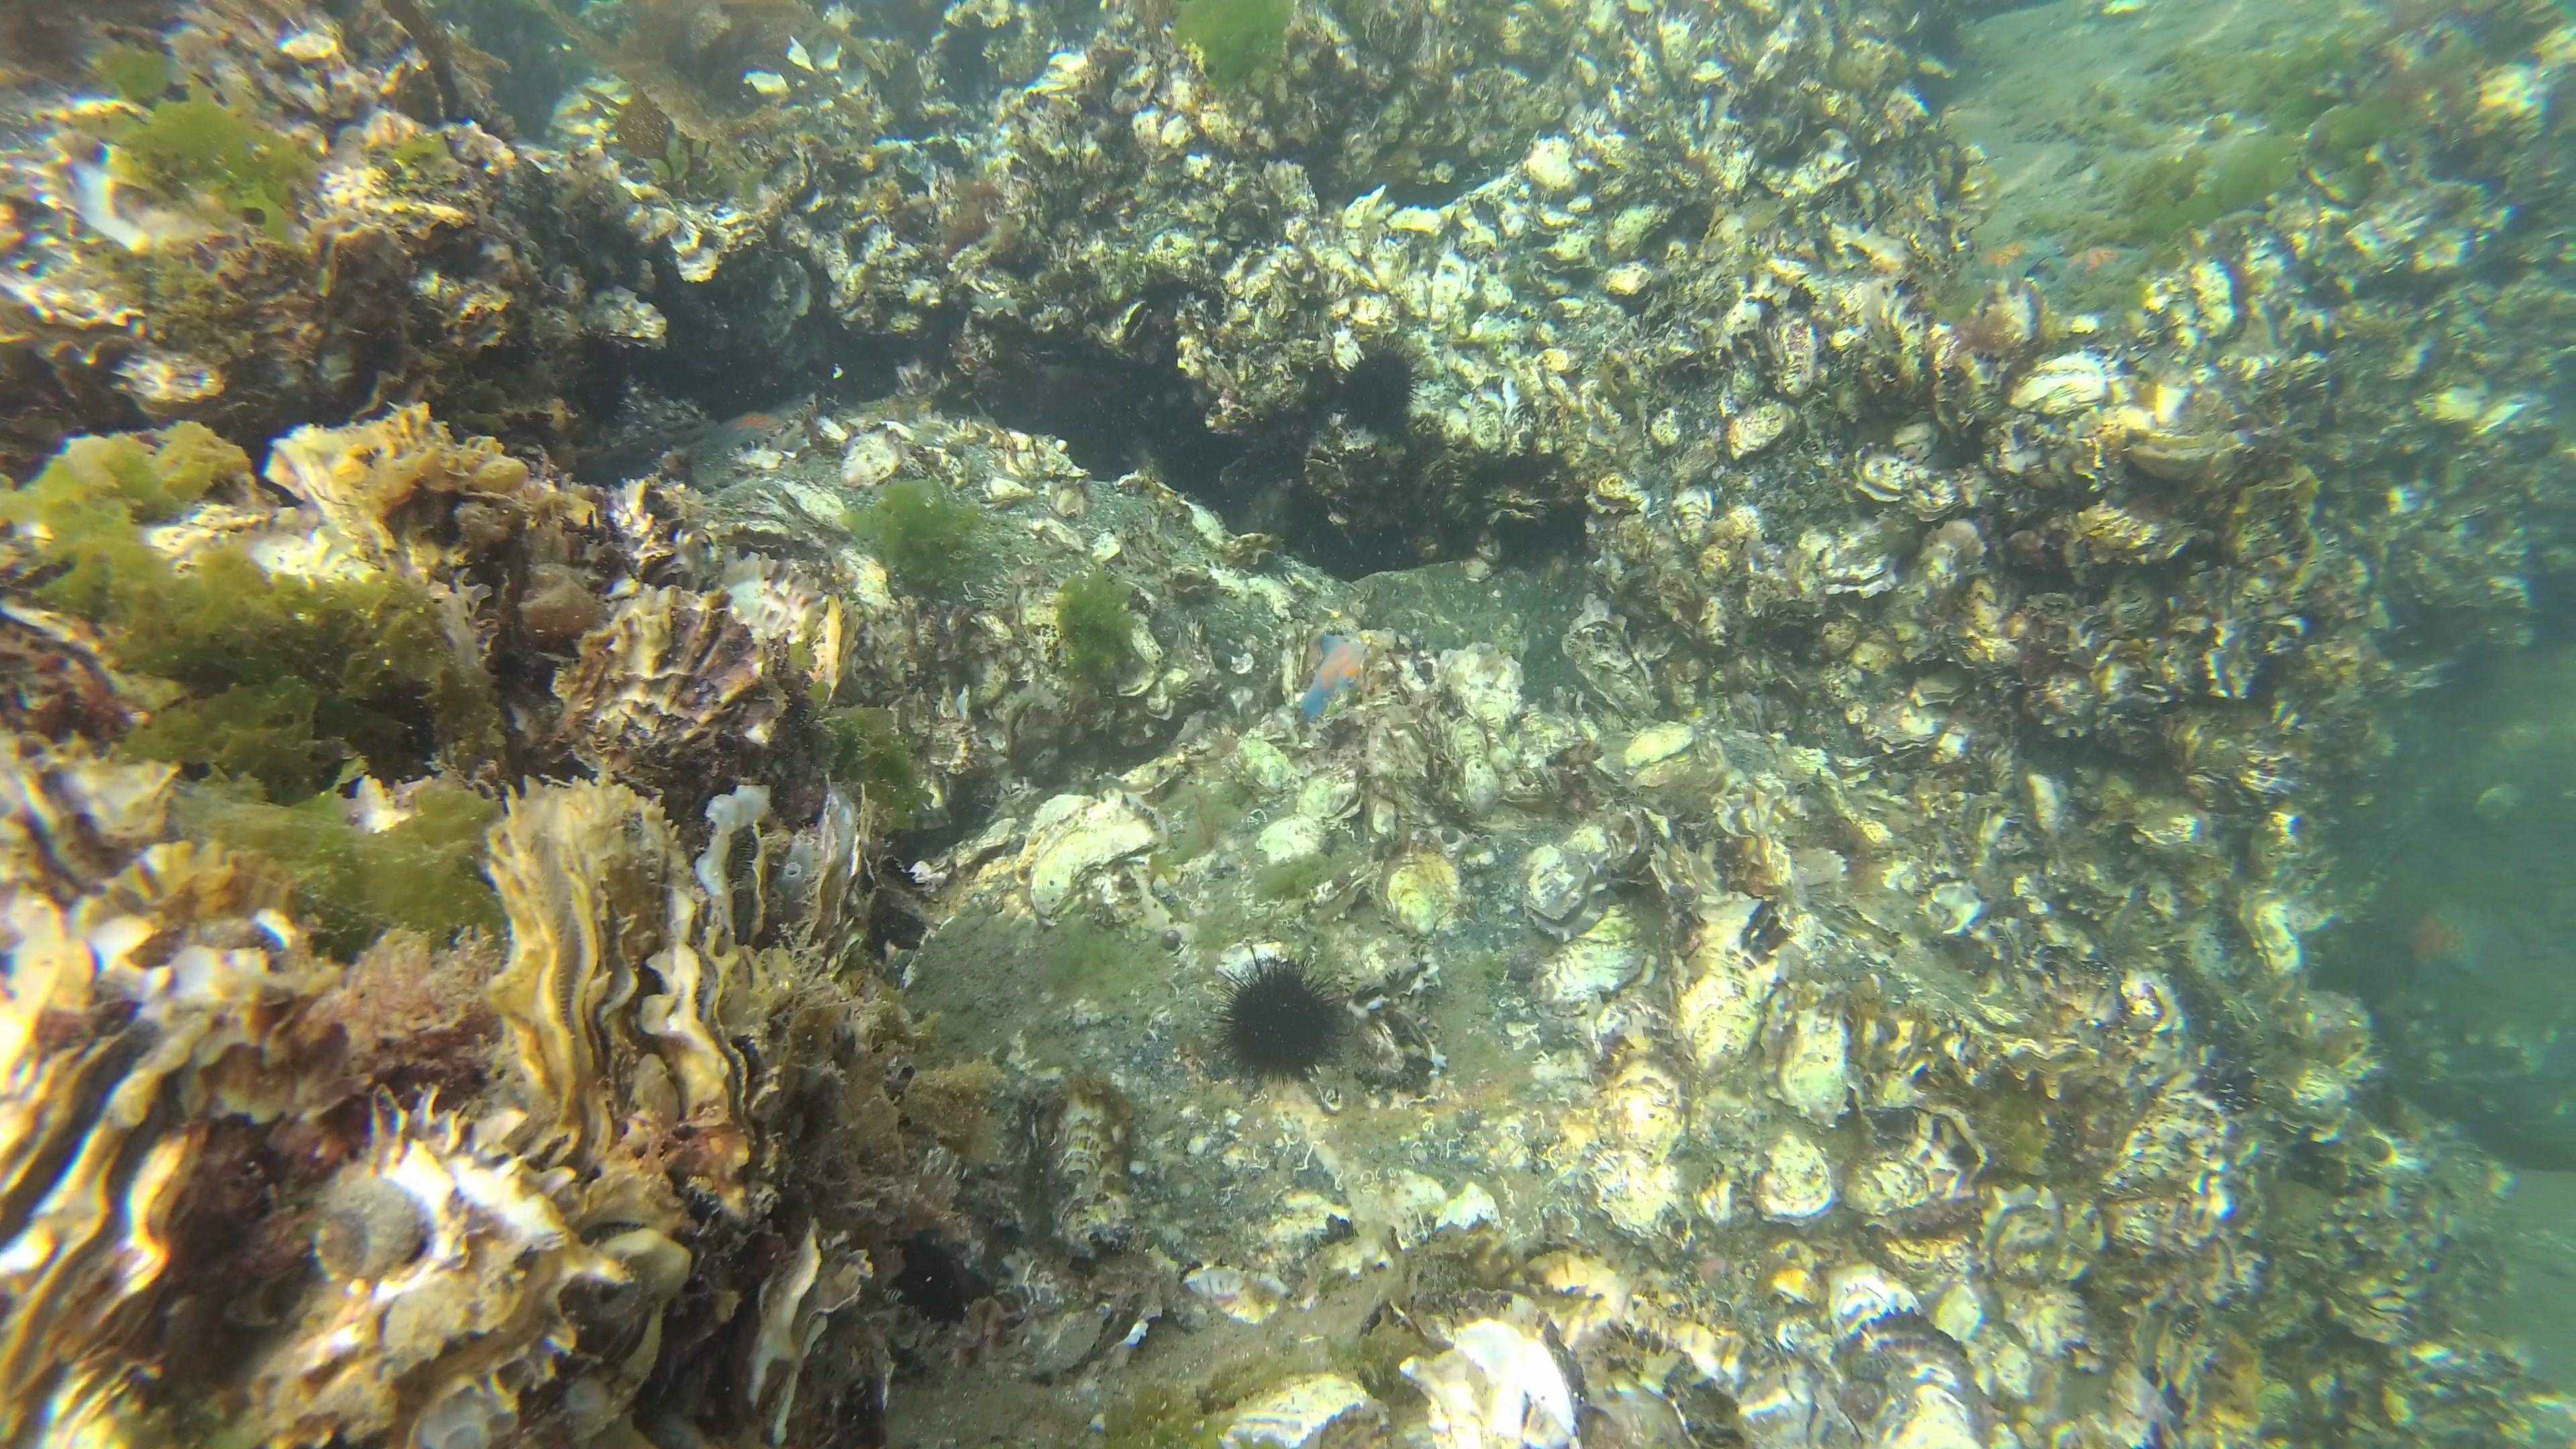echinus: (1207, 952, 1357, 1093), (1332, 345, 1428, 437)
starfish: (1292, 632, 1375, 725), (2399, 902, 2488, 982), (1957, 225, 2049, 292), (2056, 239, 2151, 301), (718, 407, 787, 455)
